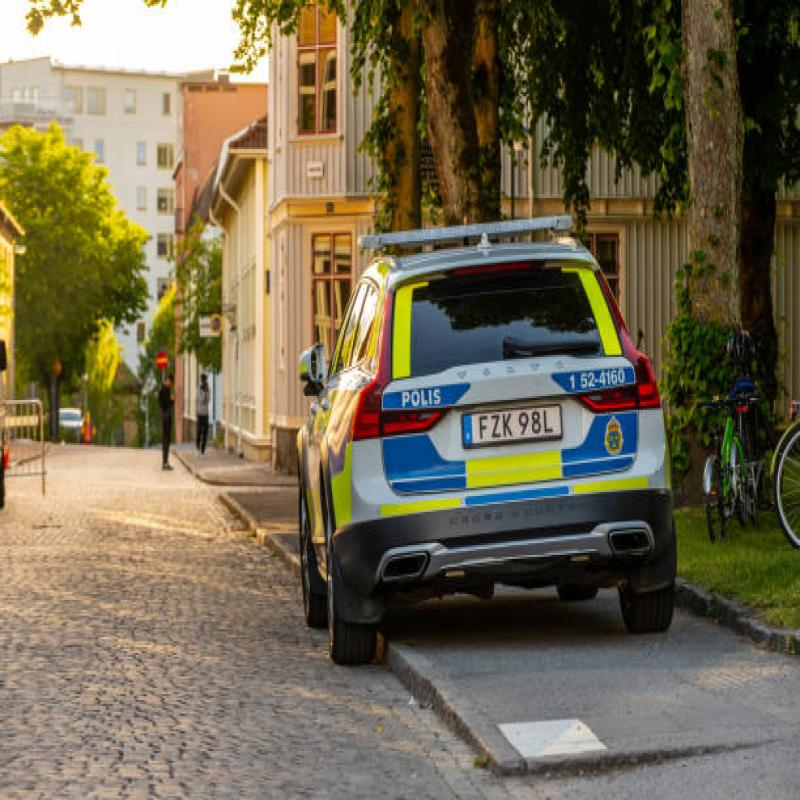AmbulanceSiren: (357, 207, 579, 253)
